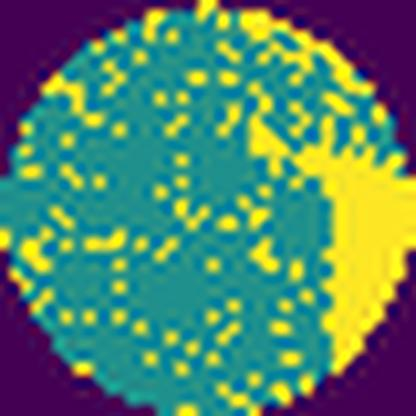Edge-Loc: (290, 119, 416, 377), (239, 0, 387, 104)
